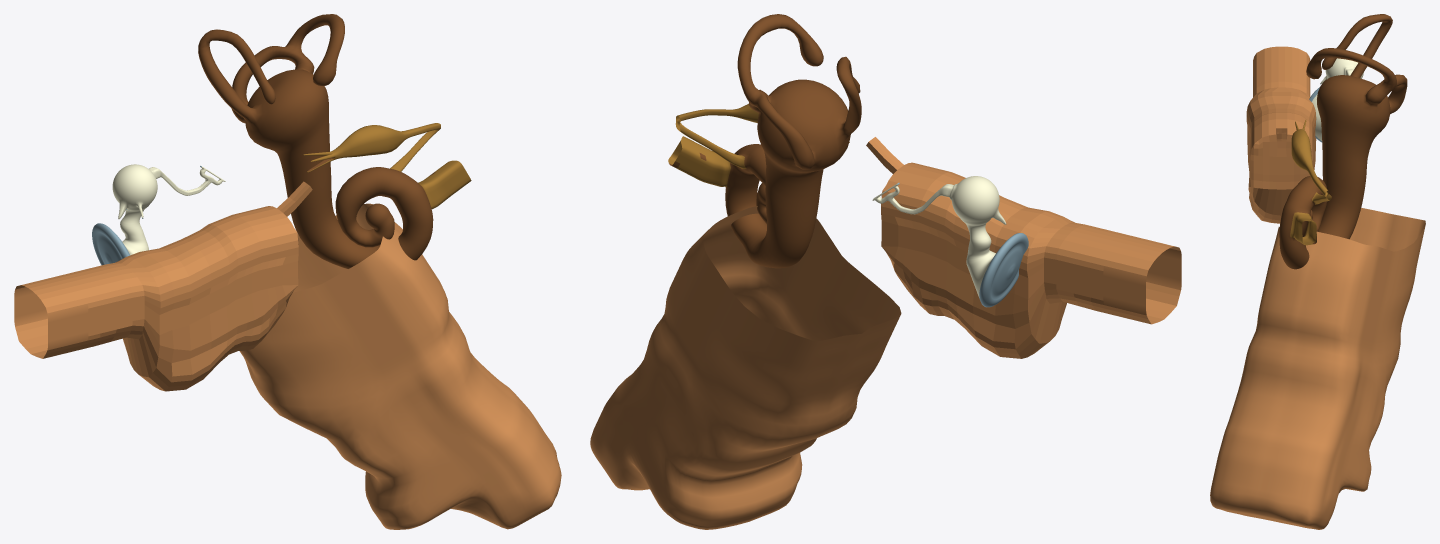
The model's file is Ear model proper.FBX.
The picture shows the model from 3 angles, left to right: view 1: azimuth 30°, elevation 25°; view 2: azimuth 150°, elevation 25°; view 3: azimuth 270°, elevation 25°; orthographic projection. The views are drawn at different scales.
Visible parts, largest first — view 1: Nerve cover001, Drum cover002, Nerve, Drum; view 2: Nerve cover001, Drum cover002, Nerve, Drum; view 3: Nerve cover001, Nerve, Drum cover002, Drum.
Part boxes in pixels (x1,y1,x2,y2): Nerve cover001: (239, 203, 561, 529); Drum cover002: (14, 181, 312, 391); Nerve: (198, 14, 471, 268); Drum: (92, 164, 225, 265); Nerve cover001: (590, 206, 901, 529); Drum cover002: (866, 137, 1181, 358); Nerve: (668, 14, 861, 268); Drum: (872, 176, 1028, 307); Nerve cover001: (1210, 208, 1425, 529); Nerve: (1279, 14, 1407, 269); Drum cover002: (1246, 46, 1316, 223); Drum: (1309, 58, 1363, 142).
Size of the model in its own units: 1198212 by 1072324 by 498209.
Materials: 5 (5 with a texture image).
